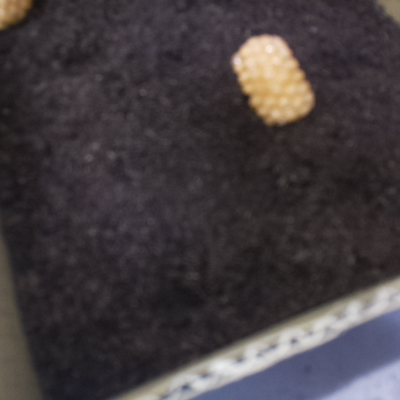eggs: (226, 29, 320, 131), (1, 1, 44, 41)
